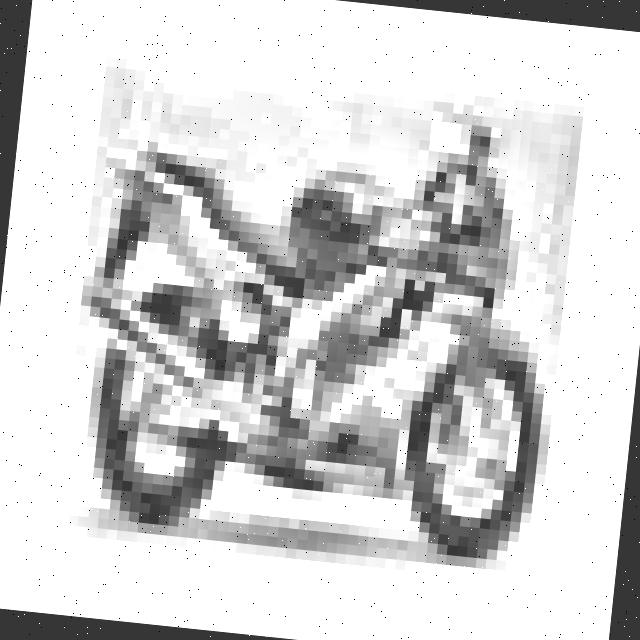mopeds: (70, 87, 590, 598)
